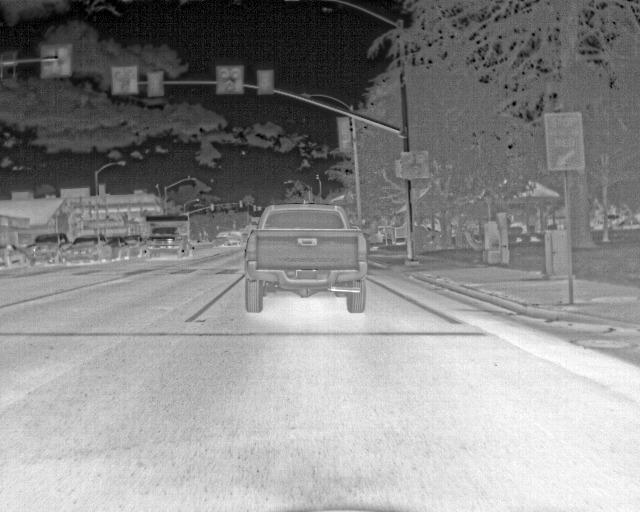car: (243, 204, 368, 313), (145, 215, 191, 258), (64, 233, 113, 264), (27, 233, 73, 263), (0, 244, 32, 267), (122, 235, 150, 259), (106, 236, 130, 261), (213, 231, 243, 246)
light: (40, 46, 72, 76), (217, 65, 243, 92), (402, 153, 428, 178), (112, 66, 136, 93), (239, 201, 243, 208), (211, 204, 214, 211), (254, 205, 256, 211)
sign: (546, 113, 585, 169), (147, 71, 164, 96), (257, 70, 274, 95), (258, 207, 261, 210)
